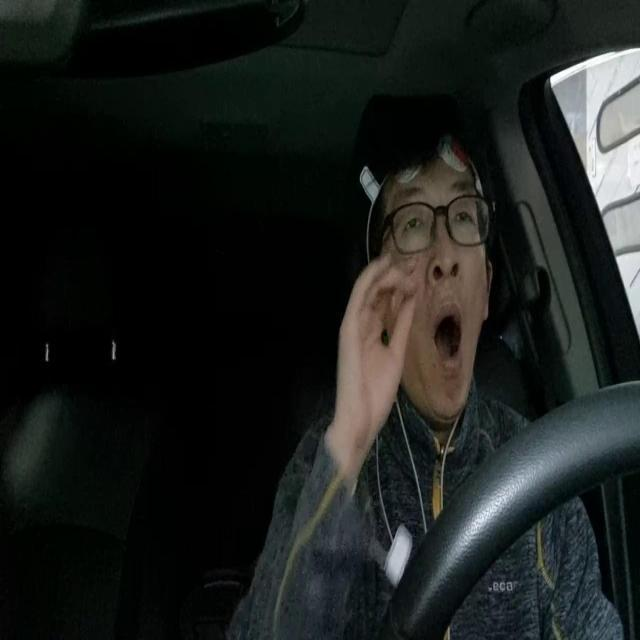Yawning: (431, 304, 468, 370)
